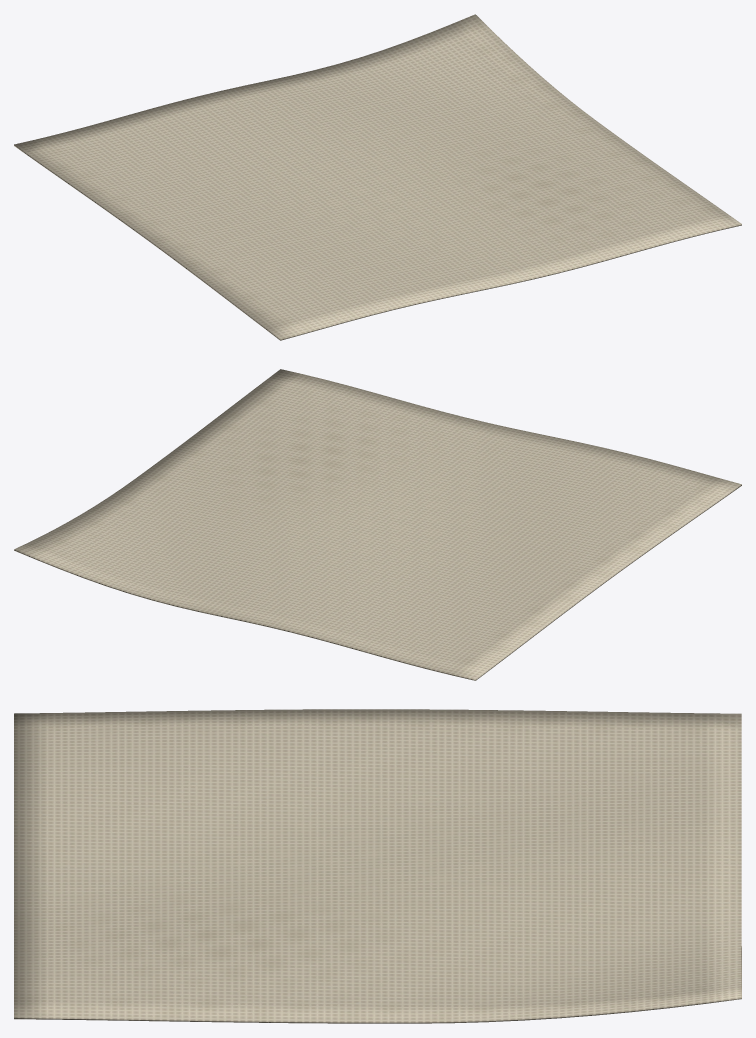
File: cloth.glb
3 renders of one model, top to bottom at view 1: azimuth 30°, elevation 25°; view 2: azimuth 150°, elevation 25°; view 3: azimuth 270°, elevation 25°, orthographic. The views are drawn at different scales.
Visible parts, largest first — view 1: GEO-cloth-Tool_Cotton; view 2: GEO-cloth-Tool_Cotton; view 3: GEO-cloth-Tool_Cotton.
Boxes of the visible parts, left/top/right/bottom form: GEO-cloth-Tool_Cotton: left=14, top=14, right=741, bottom=340; GEO-cloth-Tool_Cotton: left=14, top=369, right=741, bottom=680; GEO-cloth-Tool_Cotton: left=14, top=709, right=741, bottom=1023.
Size of the model in its own units: 0.058 by 0.00234 by 0.058.
1 material, 1 textured.
